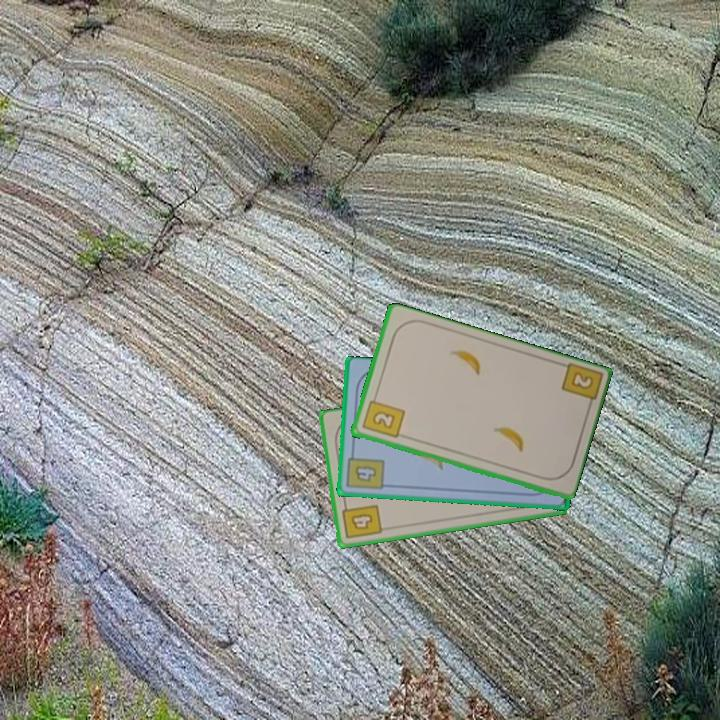2b: (358, 391, 407, 441), (557, 361, 603, 413)
4b: (339, 498, 385, 542), (344, 447, 387, 493)
